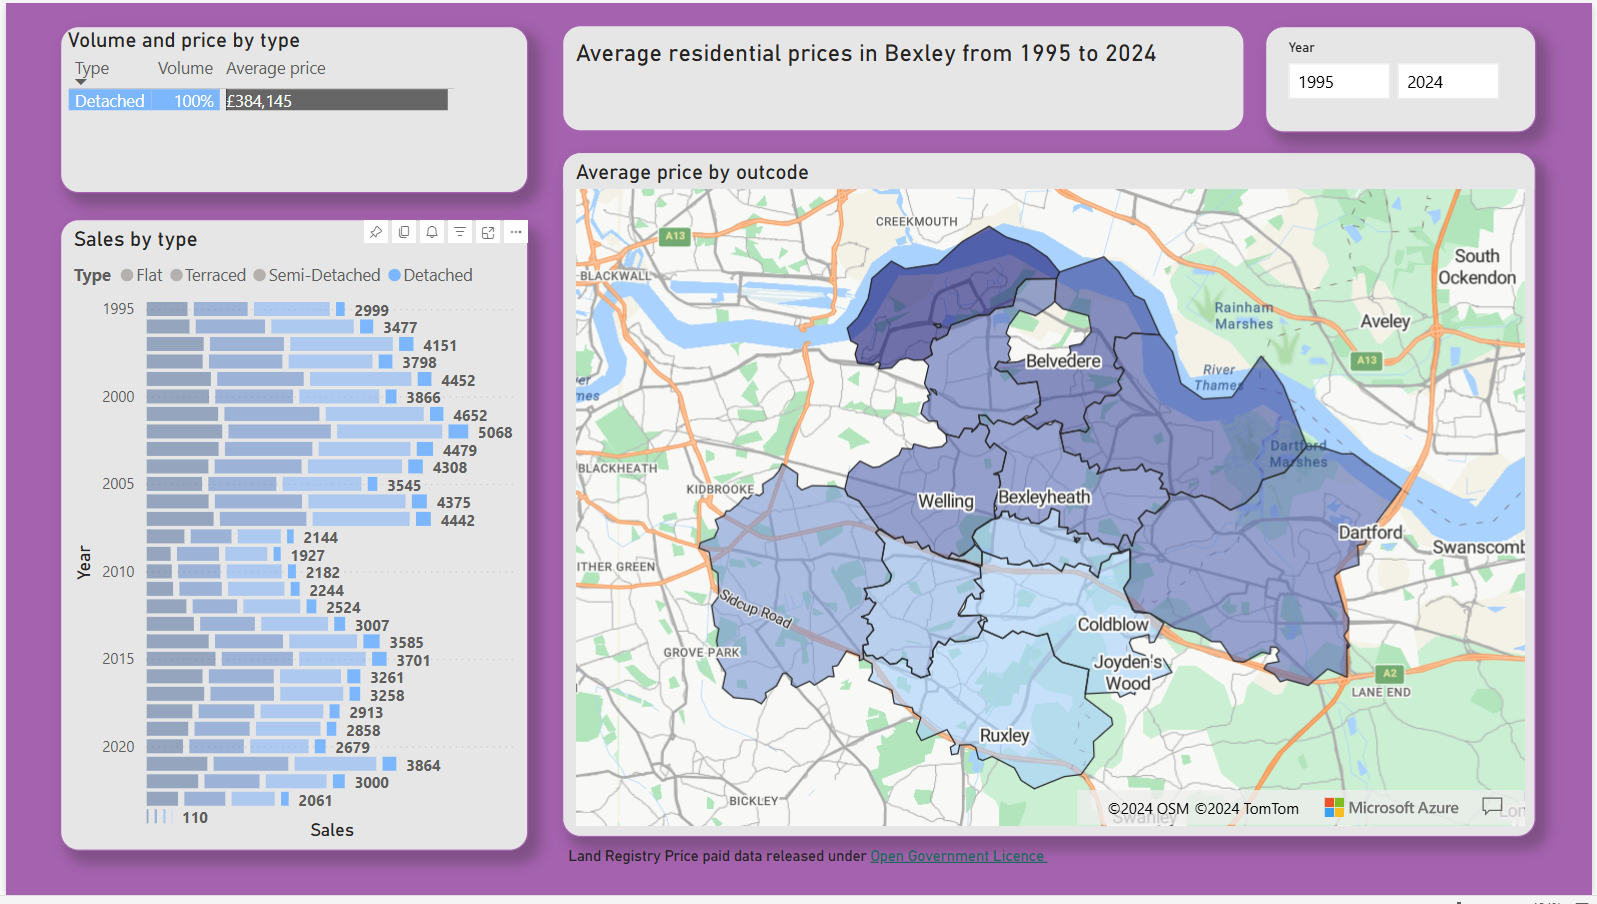

The page's visual inventory and layout, read from the dashboard file:
{"tool":"powerbi","page":{"name":"House prices","canvas":[1280,720],"ordinal":0},"visuals":[{"type":"azureMap","fields":{"Category":["ppd_data.outcode","ppd_data.Sector"]},"box":[449,120,786,553],"z":0},{"type":"tableEx","title":"Volume and price by type","fields":{"Values":["Property Types.Type","ppd_data.property_type","Measures_Table.average price"]},"box":[43.6,18.4,378.2,134.8],"z":1000},{"type":"slicer","fields":{"Values":["ppd_data.deed_date.Variation.Date Hierarchy.Year"]},"box":[1016.2,18.4,219.2,86.3],"z":2000},{"type":"textbox","box":[449,18,551,86],"z":3000},{"type":"barChart","title":"Sales by type","fields":{"Category":["ppd_data.deed_date.Variation.Date Hierarchy.Year"],"Y":["CountNonNull(ppd_data.property_type)"],"Series":["Property Types.Type"]},"box":[43.6,174.5,378.2,510.1],"z":4000},{"type":"textbox","box":[449,673,594,38],"z":5000}]}

Visuals, with their boxes in screenshot pixels (x1, y1, x2, y2), scaled from the page's 1280x720 canvas onto the 1597x904 screenshot:
azureMap - ppd_data.outcode x ppd_data.Sector: {"left": 560, "top": 151, "right": 1541, "bottom": 845}
"Volume and price by type" tableEx: {"left": 54, "top": 23, "right": 526, "bottom": 192}
slicer - ppd_data.deed_date.Variation.Date Hierarchy.Year: {"left": 1268, "top": 23, "right": 1541, "bottom": 131}
textbox: {"left": 560, "top": 23, "right": 1248, "bottom": 131}
"Sales by type" barChart: {"left": 54, "top": 219, "right": 526, "bottom": 860}
textbox: {"left": 560, "top": 845, "right": 1301, "bottom": 893}
